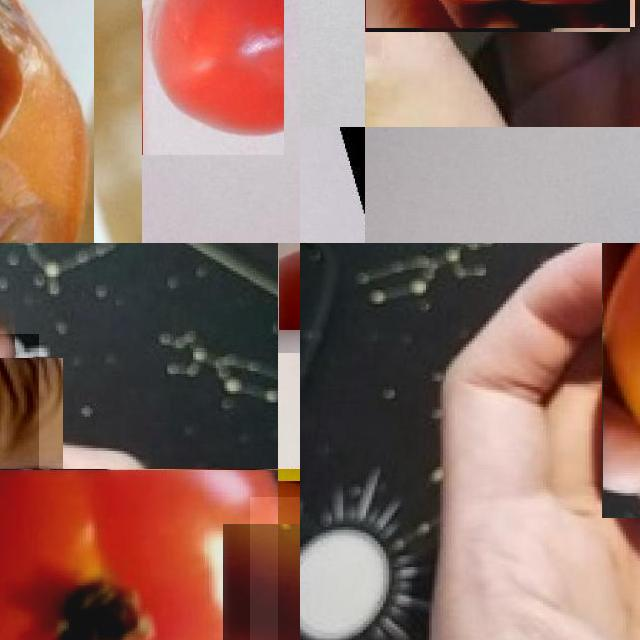0: (0, 469, 278, 640)
Fresh Tomato: (142, 0, 284, 155)
Rotten Tomato: (0, 0, 94, 243)
